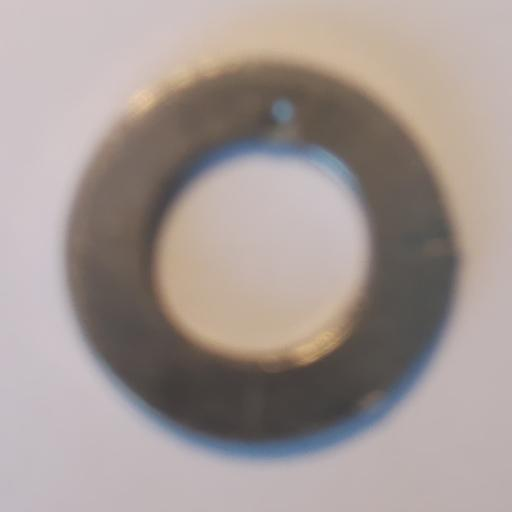scratch: (261, 97, 303, 141), (399, 232, 455, 263)
